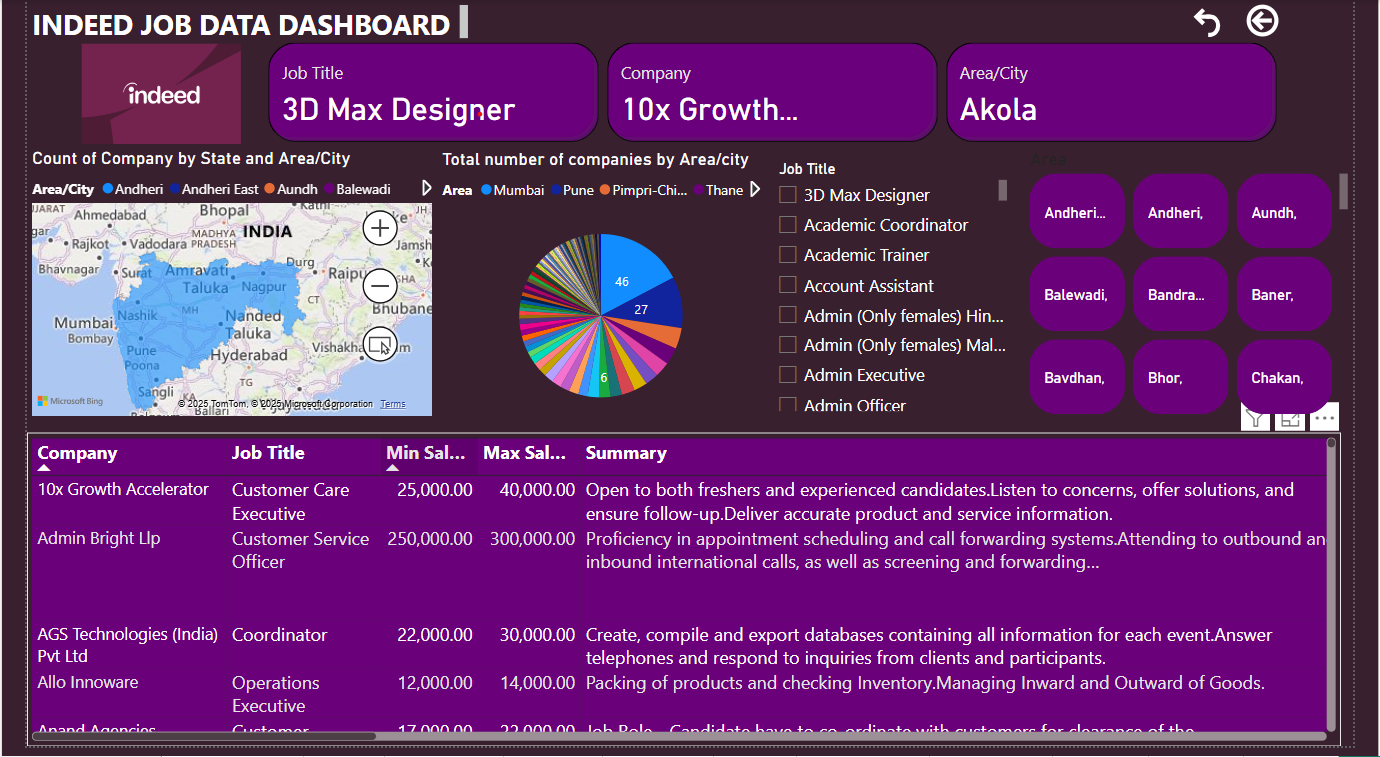

The page's visual inventory and layout, read from the dashboard file:
{"tool":"powerbi","page":{"name":"dashboard","canvas":[1280,720],"ordinal":7},"visuals":[{"type":"pivotTable","fields":{"Rows":["CLEAN SHEET.Company"],"Values":["Min(CLEAN SHEET.Job Title)","Sum(CLEAN SHEET.Min Salary)","Sum(CLEAN SHEET.Max Salary)","Min(CLEAN SHEET.Summary)","Min(CLEAN SHEET.Apply Link)"]},"box":[0,417.1,1268.6,302.9],"z":0},{"type":"cardVisual","fields":{"Data":["Min(CLEAN SHEET.Job Title)","Min(CLEAN SHEET.Company)","Min(CLEAN SHEET.Area/City)"]},"box":[228,36.2,985.7,106.2],"z":1000},{"type":"pieChart","title":"Total number of companies by  Area/city","fields":{"Category":["CLEAN SHEET.City","CLEAN SHEET.Area"],"Y":["CountNonNull(CLEAN SHEET.Area/City)"]},"box":[396,144,316.8,273.6],"z":2000},{"type":"textbox","box":[0,0,430.9,43.2],"z":3000},{"type":"filledMap","fields":{"Category":["Location.State"],"Series":["Location.Area/City"]},"box":[0,142.9,395.7,264.3],"z":4000},{"type":"image","box":[0,36.9,259.4,106.3],"z":5000},{"type":"actionButton","box":[1121.3,0,51.8,39.7],"z":6000},{"type":"actionButton","box":[1173,0,41.4,39.7],"z":7000},{"type":"advancedSlicerVisual","fields":{"Values":["Location.Area"]},"box":[962.7,143.6,317.3,263],"z":8000},{"type":"slicer","fields":{"Values":["CLEAN SHEET.Job Title"]},"box":[713,149.6,237.7,252.1],"z":9000}]}

Visuals, with their boxes in screenshot pixels (x1, y1, x2, y2), scaled from the page's 1280x720 canvas onto the 1380x757 screenshot:
pivotTable - CLEAN SHEET.Company x Min(CLEAN SHEET.Job Title): 0/439/1368/756
cardVisual - Min(CLEAN SHEET.Job Title) x Min(CLEAN SHEET.Company): 246/38/1309/150
"Total number of companies by  Area/city" pieChart: 427/151/768/439
textbox: 0/0/465/45
filledMap - Location.State x Location.Area/City: 0/150/427/428
image: 0/39/280/151
actionButton: 1209/0/1265/42
actionButton: 1265/0/1309/42
advancedSlicerVisual - Location.Area: 1038/151/1379/427
slicer - CLEAN SHEET.Job Title: 769/157/1025/422
